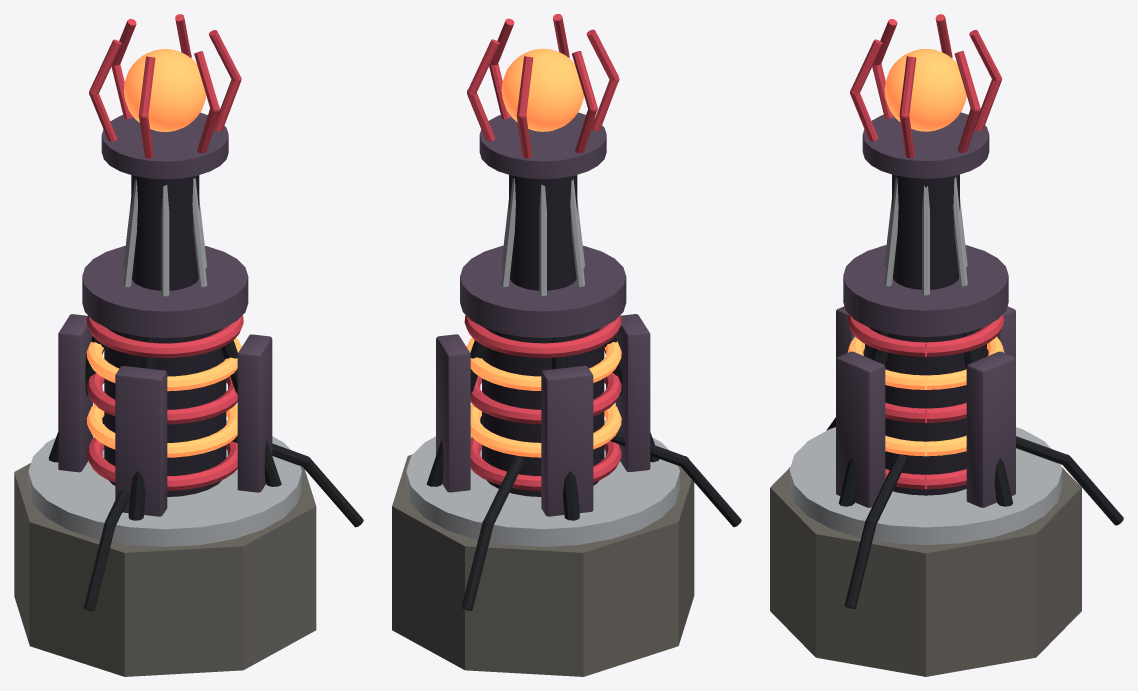
File: generator.glb
3 renders of one model, left to right at view 1: azimuth 30°, elevation 25°; view 2: azimuth 150°, elevation 25°; view 3: azimuth 270°, elevation 25°, orthographic.
Visible parts, largest first — view 1: Generator; view 2: Generator; view 3: Generator.
Part boxes in pixels (bbox=[...]): Generator: bbox=[14, 14, 363, 676]; Generator: bbox=[392, 14, 741, 676]; Generator: bbox=[770, 14, 1123, 676].
Size of the model in its own units: 7.08 by 13.04 by 7.26.
